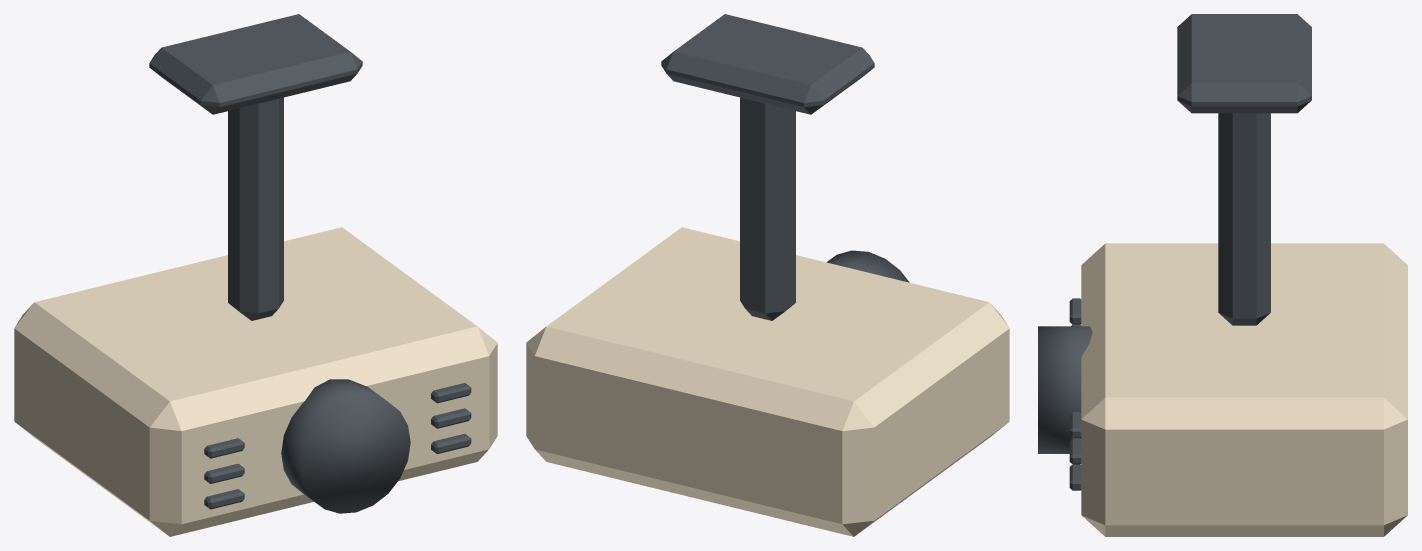
The model's file is projector.glb.
3 views of the same model, side by side, from view 1: azimuth 30°, elevation 25°; view 2: azimuth 150°, elevation 25°; view 3: azimuth 270°, elevation 25° (orthographic). The views are drawn at different scales.
Visible parts, largest first — view 1: projector; view 2: projector; view 3: projector.
Boxes of the visible parts, x1,y1,x2,y2 form: projector: [14, 14, 497, 536]; projector: [526, 14, 1009, 536]; projector: [1038, 14, 1407, 536].
Bounding box in the file's own units: 0.43 × 0.4725 × 0.385.
